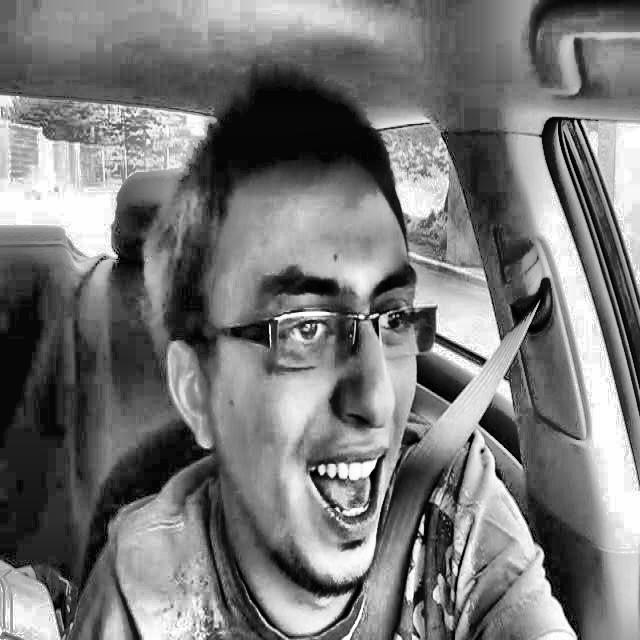open_eyes: (274, 301, 346, 358), (369, 295, 429, 350)
open_mouth: (286, 438, 401, 559)
